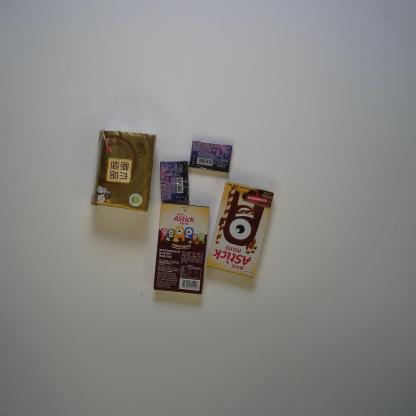Dessert: (206, 180, 276, 280), (152, 202, 210, 294)
Gum: (187, 139, 232, 174), (159, 160, 190, 206)
Tissue: (88, 129, 157, 213)
